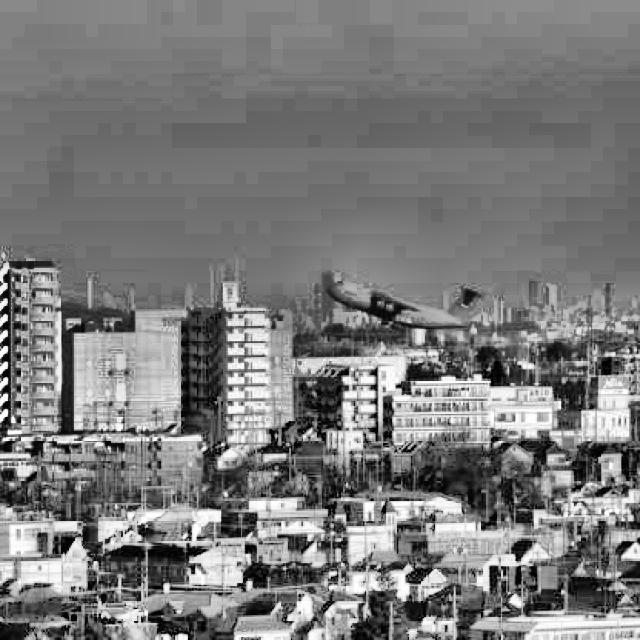C5: (326, 279, 485, 330)
